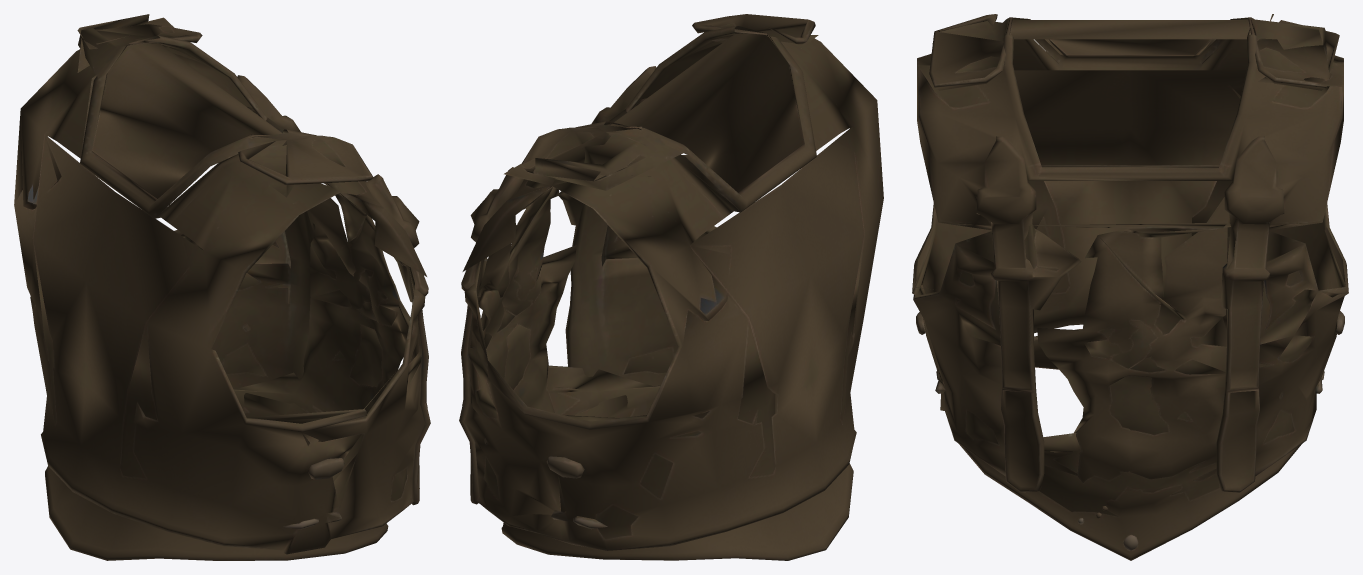
Rendered from armor.glb.
3 renders of one model, left to right at view 1: azimuth 30°, elevation 25°; view 2: azimuth 150°, elevation 25°; view 3: azimuth 270°, elevation 25°, orthographic. The views are drawn at different scales.
Parts seen in each view (by area): view 1: base_model_path; view 2: base_model_path; view 3: base_model_path.
Part boxes in pixels (x1,y1,x2,y2): base_model_path: (14,14,430,560); base_model_path: (459,14,883,560); base_model_path: (912,14,1348,560).
Bounding box in the file's own units: 0.6631 × 0.9859 × 0.847.
Materials: 1 (1 with a texture image).
